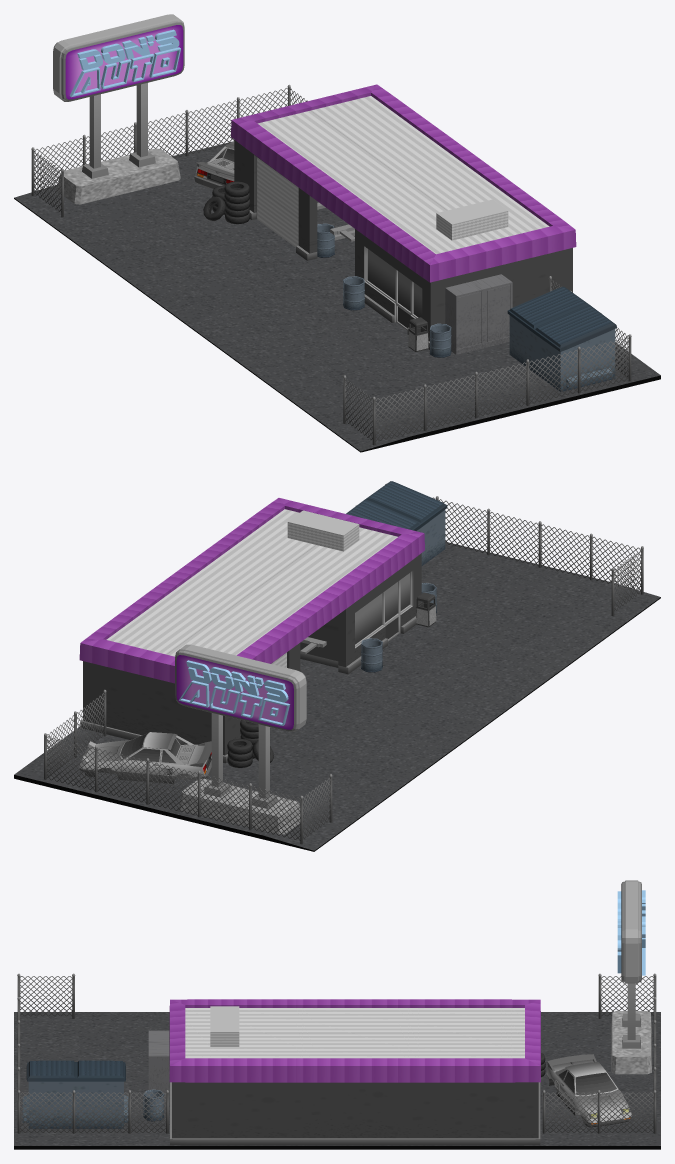
Rendered from MIAMI_repairshop.FBX.
3 views of the same model, one above another, from view 1: azimuth 30°, elevation 25°; view 2: azimuth 150°, elevation 25°; view 3: azimuth 270°, elevation 25° (orthographic). The views are drawn at different scales.
Parts seen in each view (by area): view 1: Box128, Box129, Cylinder077, Box132, Box131, Box130, Box134, Shape1, body001, Cylinder079, Cylinder078, Box133; view 2: Box128, Box129, Cylinder077, Box130, Box131, body001, Box132, Shape002, Cylinder078, Box133; view 3: Box129, Box128, Cylinder077, Box132, body001, Box131, Box130, Box134, Cylinder080, Shape1.
Part boxes in pixels (x1,y1,x2,y2): Box128: (14,141,660,452); Box129: (231,84,576,349); Cylinder077: (31,84,631,445); Box132: (507,286,617,391); Box131: (57,83,180,204); Box130: (53,14,184,101); Box134: (445,274,512,354); Shape1: (69,29,180,97); body001: (194,141,234,189); Cylinder079: (429,323,451,357); Cylinder078: (343,276,364,310); Box133: (408,317,428,351); Box128: (14,542,660,851); Box129: (79,498,424,763); Cylinder077: (44,483,643,844); Box130: (175,644,306,731); Box131: (179,713,300,834); body001: (79,732,211,783); Box132: (346,481,447,565); Shape002: (179,660,289,725); Cylinder078: (361,638,382,672); Box133: (416,592,436,627); Box129: (169,999,540,1145); Box128: (14,1012,660,1149); Cylinder077: (17,973,656,1133); Box132: (22,1060,128,1128); body001: (546,1054,632,1127); Box131: (611,983,651,1074); Box130: (621,880,641,983); Box134: (148,1030,169,1111); Cylinder080: (143,1089,164,1121); Shape1: (617,891,621,973).
Bounding box in the file's own units: 480 × 243 × 960.
